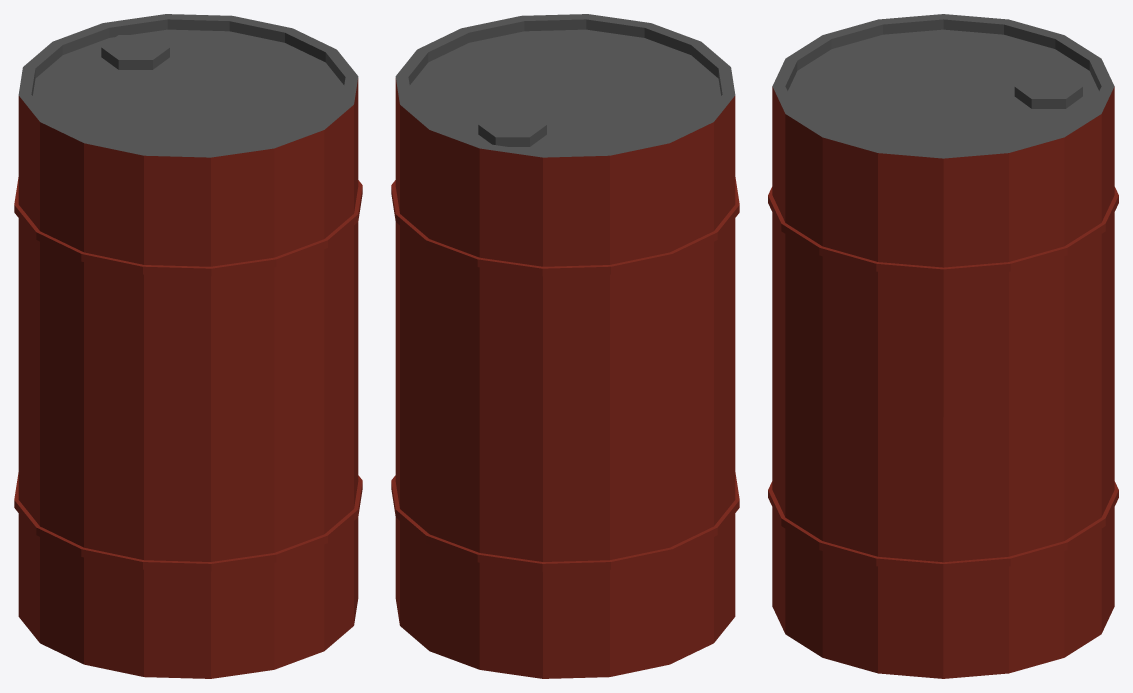
Rendered from Object_metalBarrel.fbx.
The picture shows the model from 3 angles, left to right: view 1: azimuth 30°, elevation 25°; view 2: azimuth 150°, elevation 25°; view 3: azimuth 270°, elevation 25°; orthographic projection.
Parts seen in each view (by area): view 1: Cylinder; view 2: Cylinder; view 3: Cylinder.
Boxes of the visible parts, x1=… form: Cylinder: x1=14, y1=14, x2=362, y2=678; Cylinder: x1=391, y1=14, x2=739, y2=678; Cylinder: x1=768, y1=14, x2=1118, y2=678.
Size of the model in its own units: 0.55 by 0.9 by 0.55.
